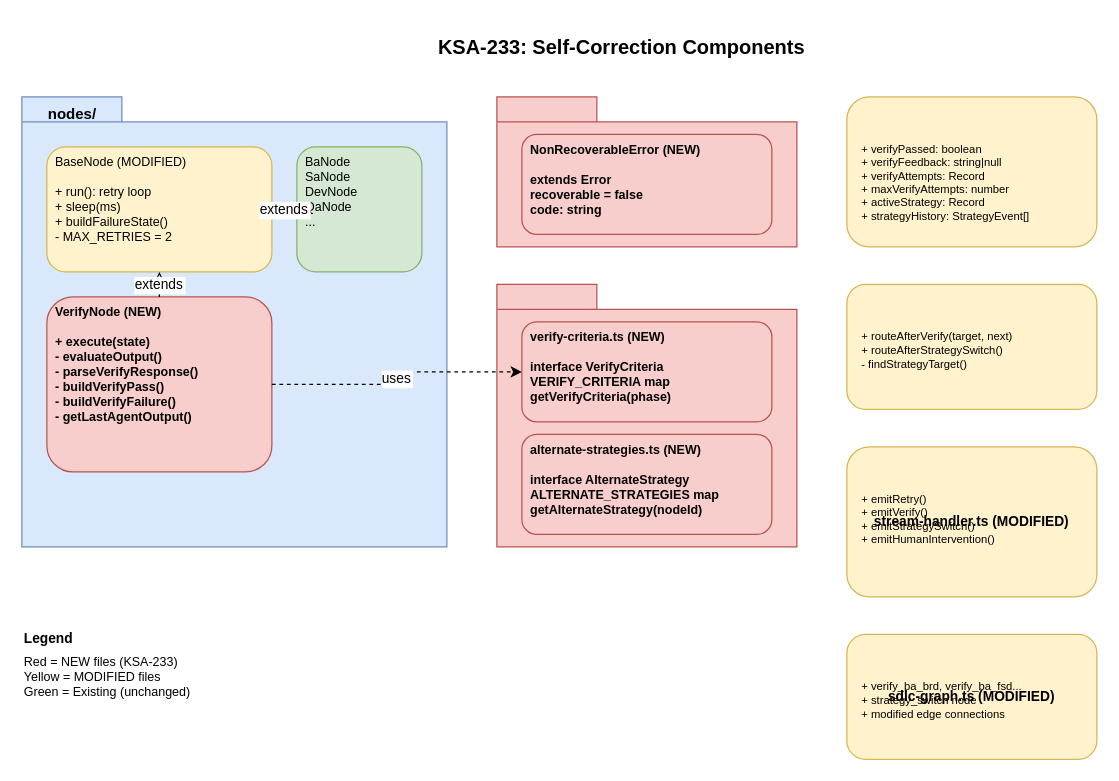
Some shapes in this 1119 by 781 pixel diagram are drawn without their labels. Here are the shapes that lost their labels. From the top down, the box of each, then its label:
(496, 96, 797, 247): errors/
(846, 96, 1097, 247): state.ts (MODIFIED)
(846, 283, 1097, 409): edges.ts (MODIFIED)
(496, 283, 797, 547): config/
